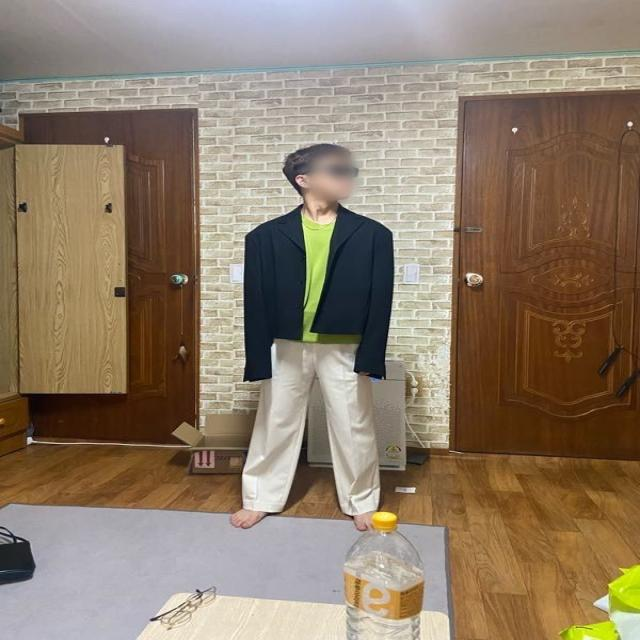blazer: (243, 201, 397, 383)
cottonpants: (243, 336, 380, 515)
